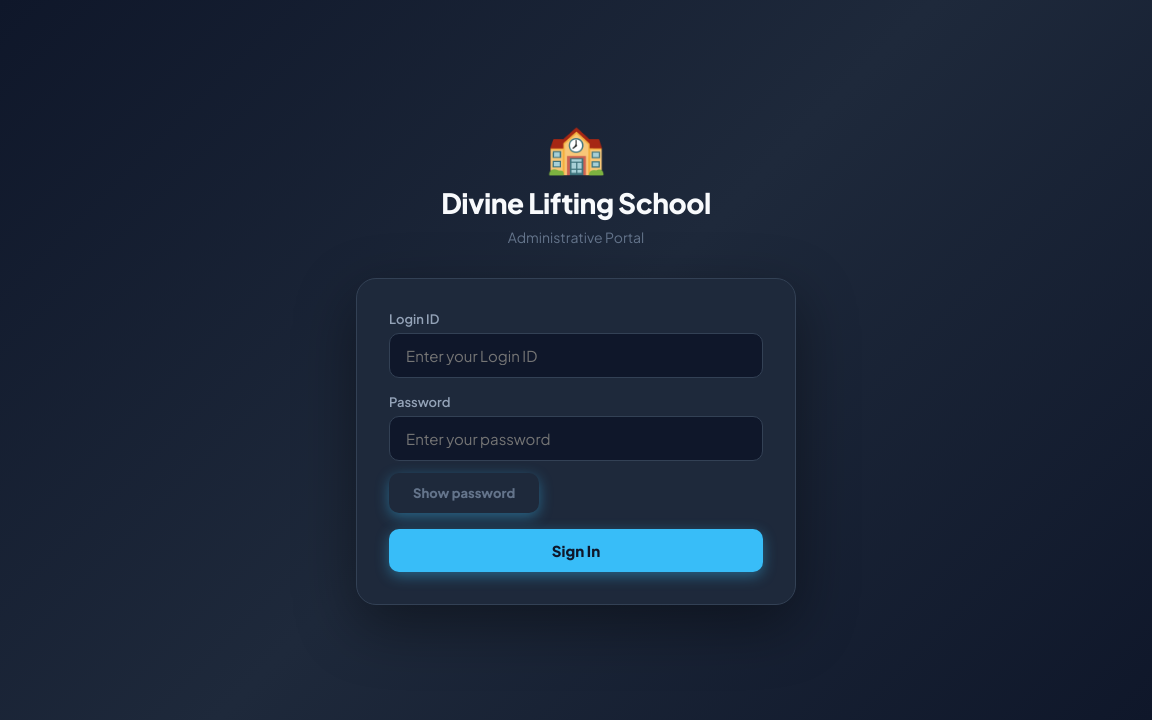
Test: Login component › shows error on invalid credentials
Type "ADM-001" into the field labelled "Login ID".
click(576, 356); type("ADM-001")  # box [389,333,763,378]
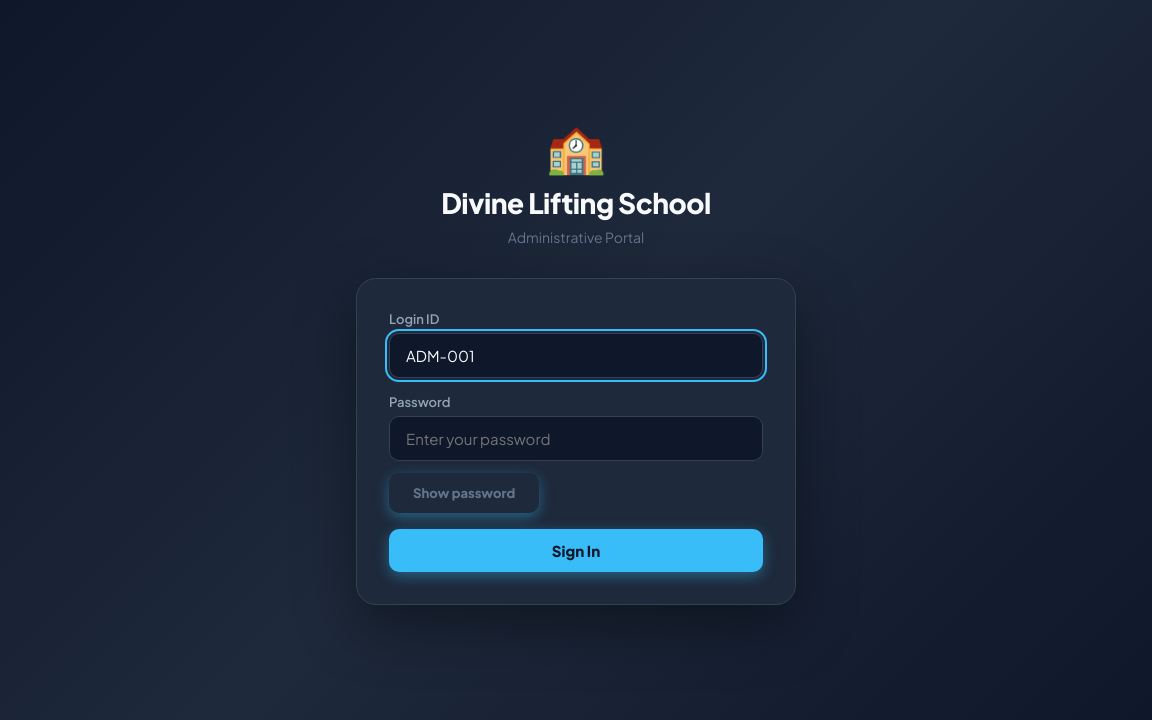
Type "x" into the password field labelled "password".
click(576, 438); type("x")  # box [389,416,763,461]
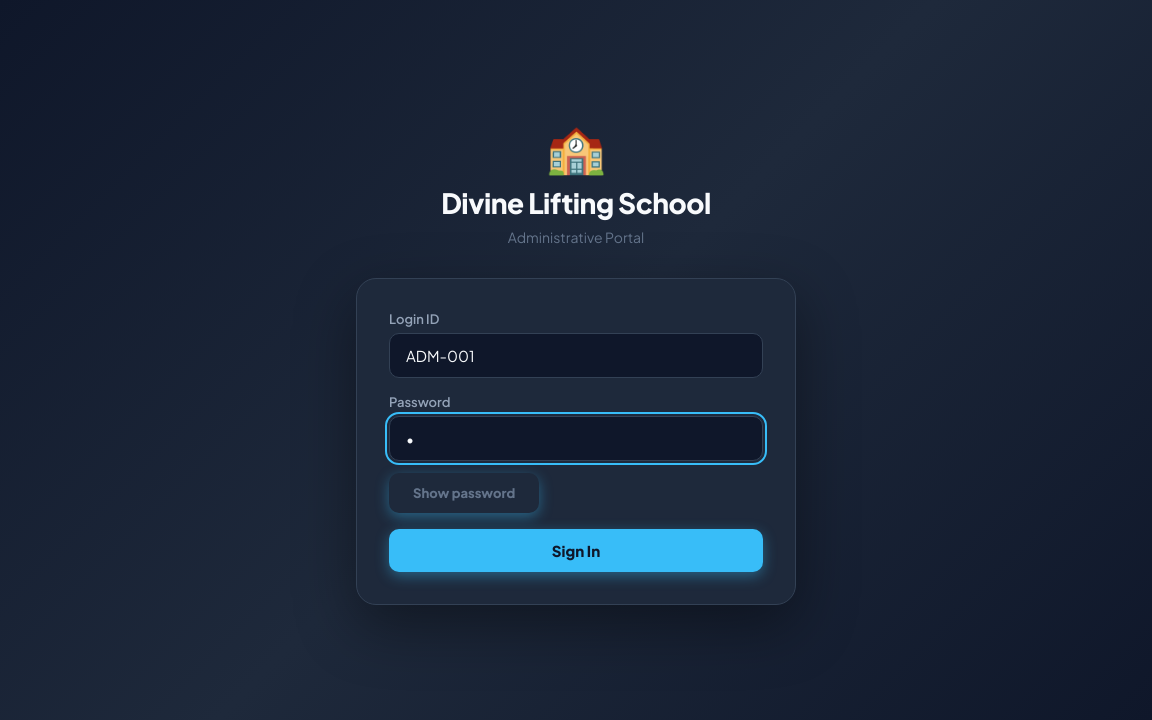
Click the button "Sign In".
click(576, 550)  # box [389,529,763,572]
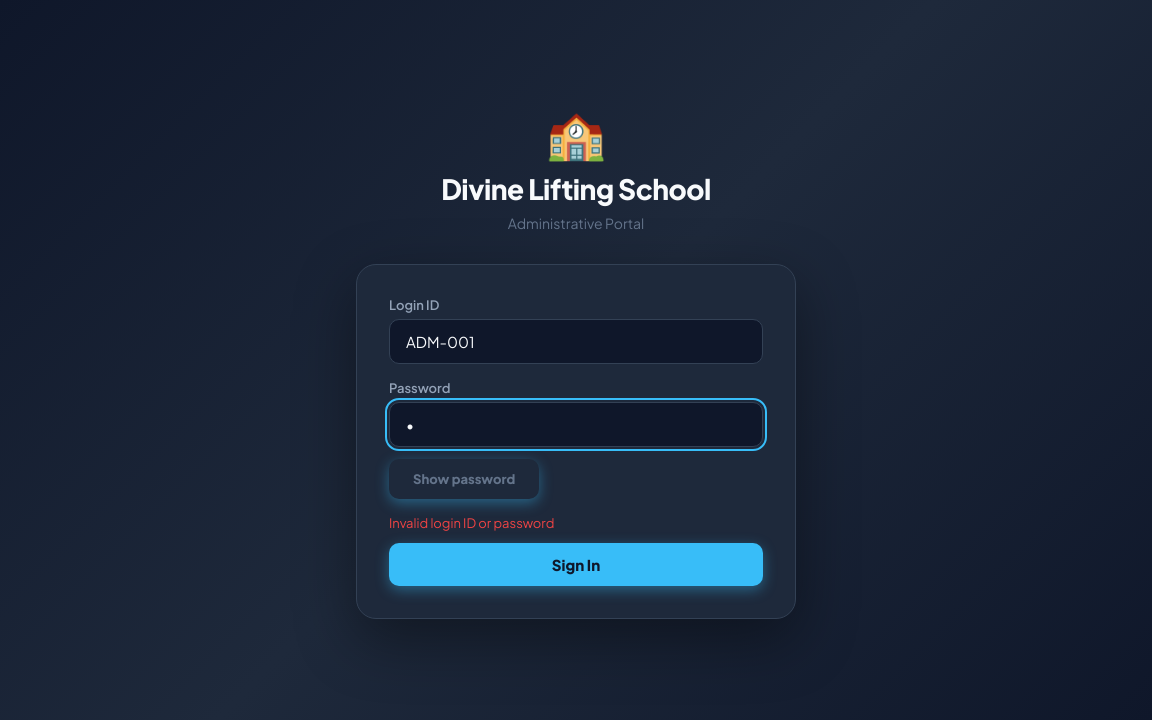
Result: the text "Invalid login ID or password" is shown at [389,515,554,531]
